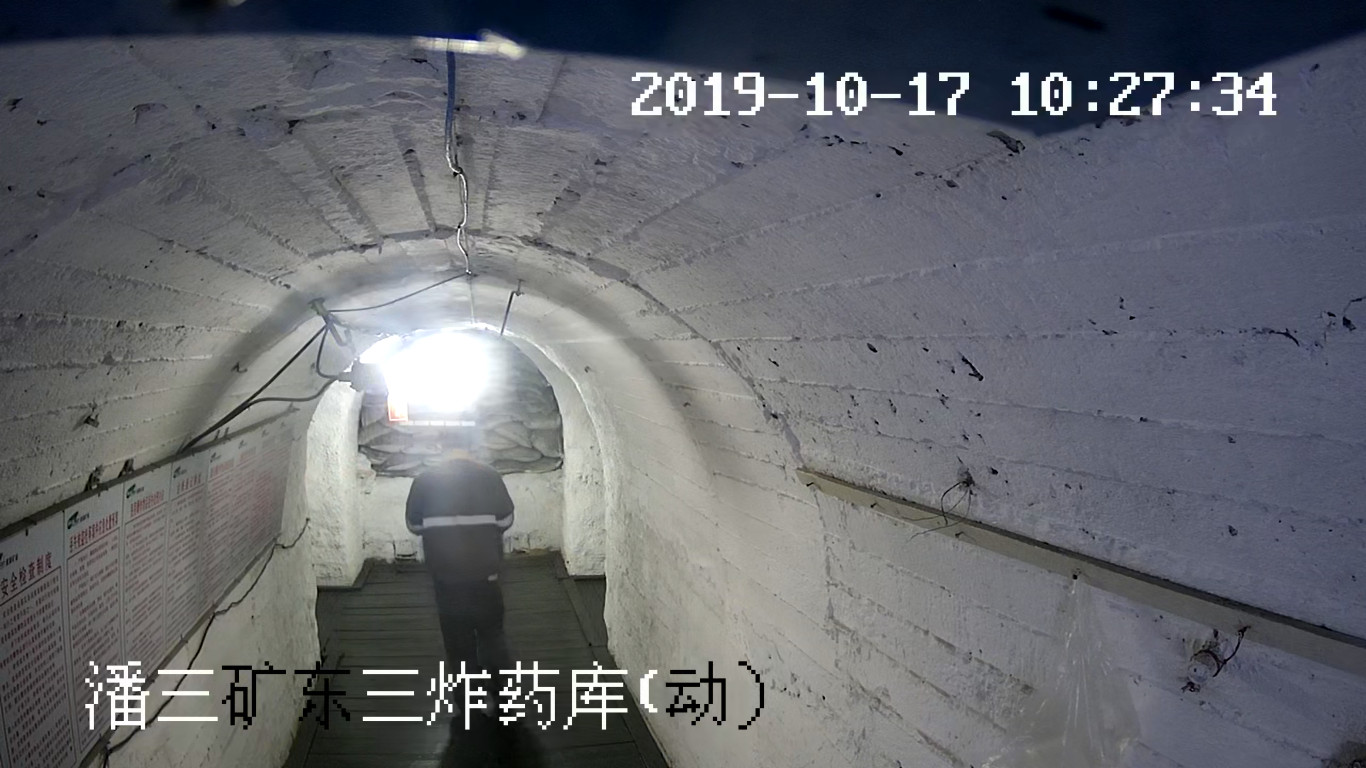helmet: (437, 413, 475, 443)
